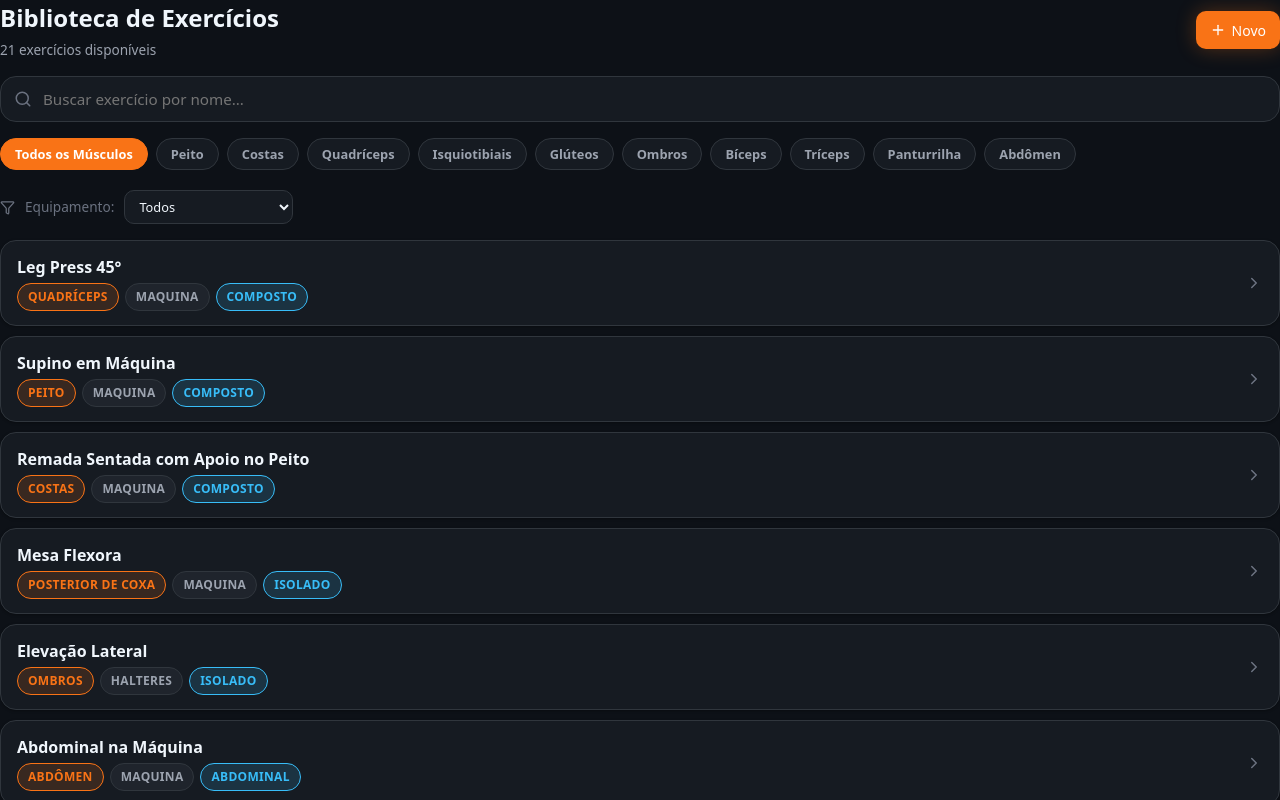
Test: ExerciseListScreen Component › renderiza os exercícios da biblioteca e permite buscar por nome
Check: the heading "Biblioteca de Exercícios" is shown, box [0,0,279,36]
Check: the heading "Leg Press 45°" is shown, box [17,256,122,278]
Type "Remada" into the search field labelled "Buscar exercício por nome..." at (640, 99), box [0,76,1279,122]
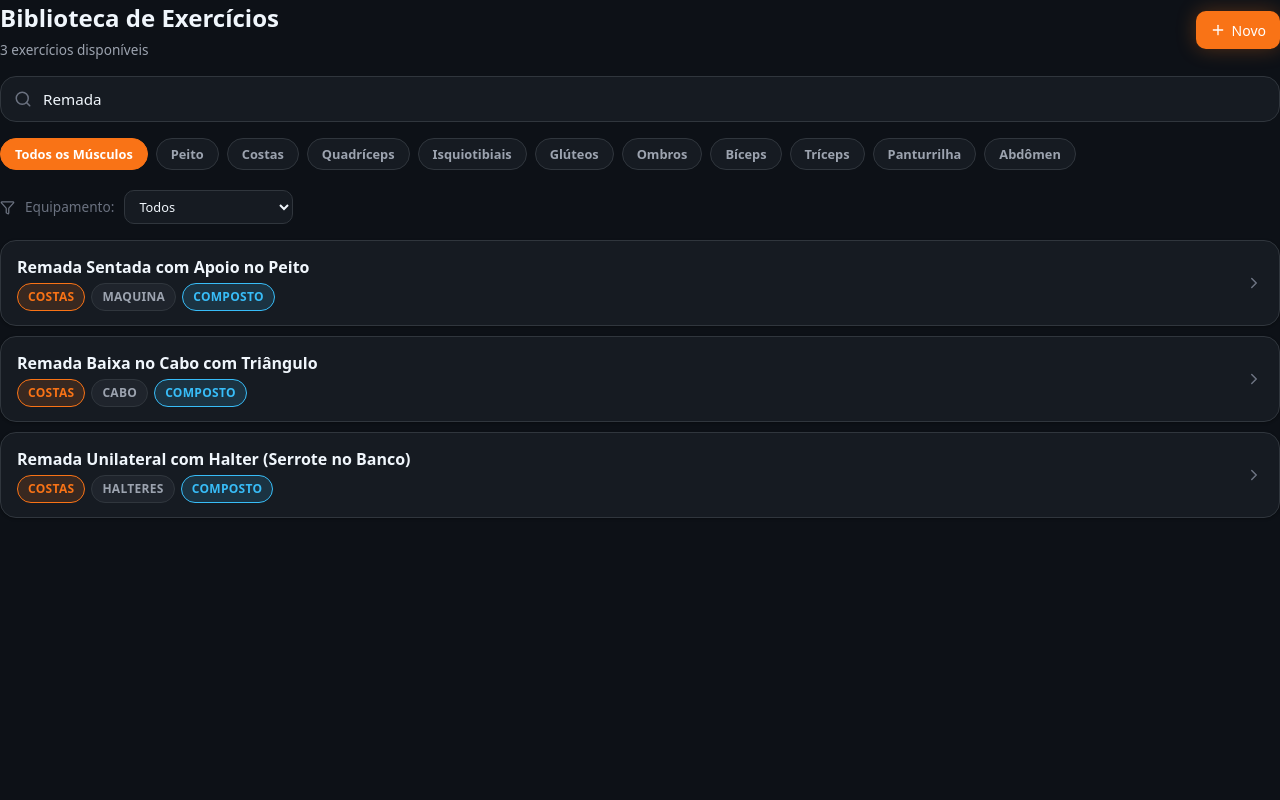
Check: the heading "Remada Sentada com Apoio no Peito" is shown, box [17,255,310,279]
Check: the button "Supino em Máquina" is gone
